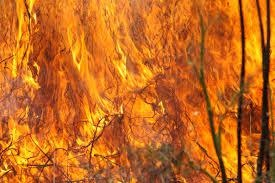fire: (0, 4, 267, 177)
